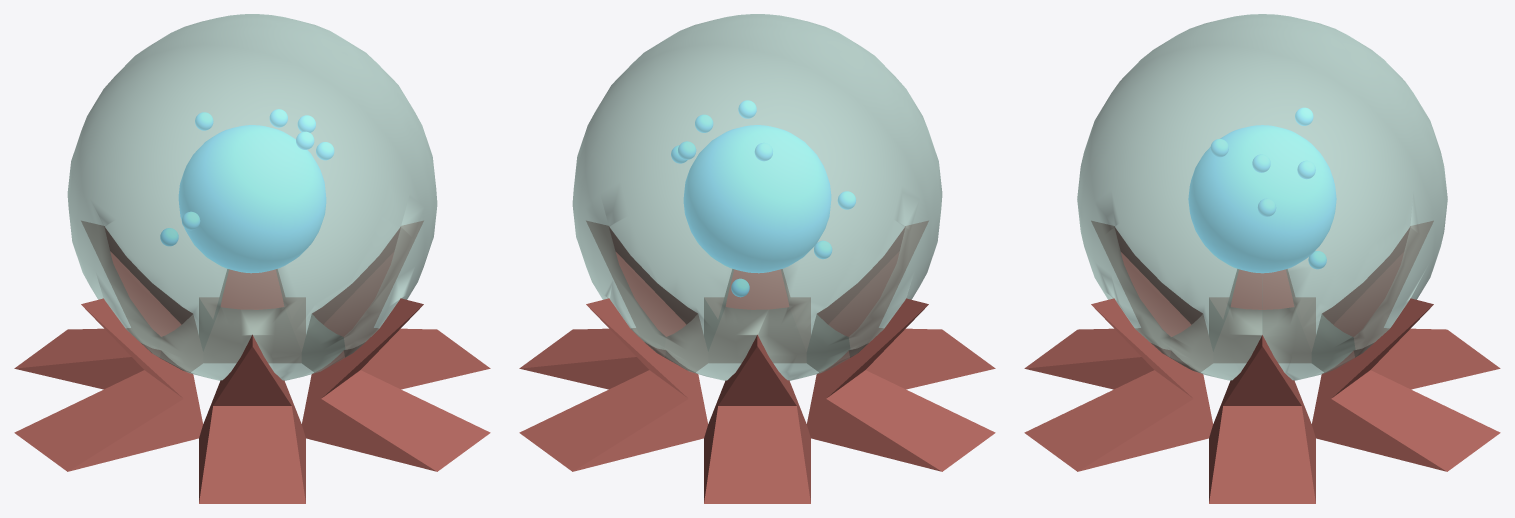
File: Bool.fbx
The picture shows the model from 3 angles, left to right: view 1: azimuth 30°, elevation 25°; view 2: azimuth 150°, elevation 25°; view 3: azimuth 270°, elevation 25°; orthographic projection.
Parts seen in each view (by area): view 1: boul; view 2: boul; view 3: boul.
Boxes of the visible parts, bbox=[...] form: boul: bbox=[14, 14, 490, 503]; boul: bbox=[519, 14, 995, 503]; boul: bbox=[1024, 14, 1500, 503].
Bounding box in the file's own units: 791 × 660 × 772.
